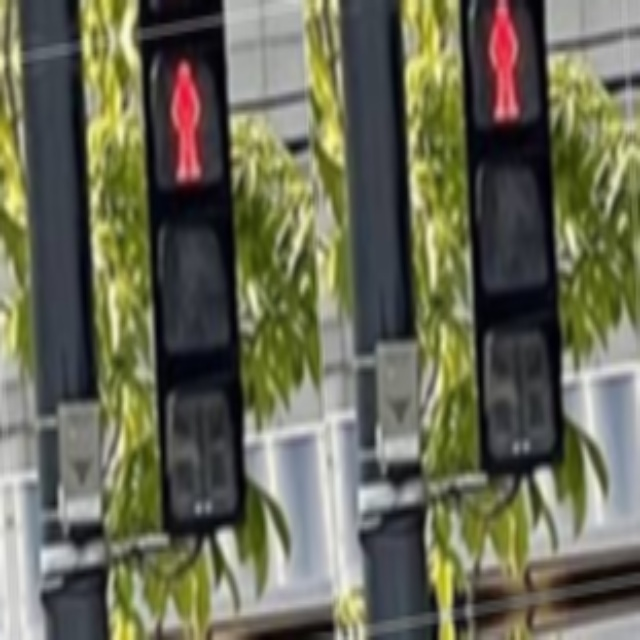red_light: (163, 51, 208, 186), (482, 0, 528, 127)
